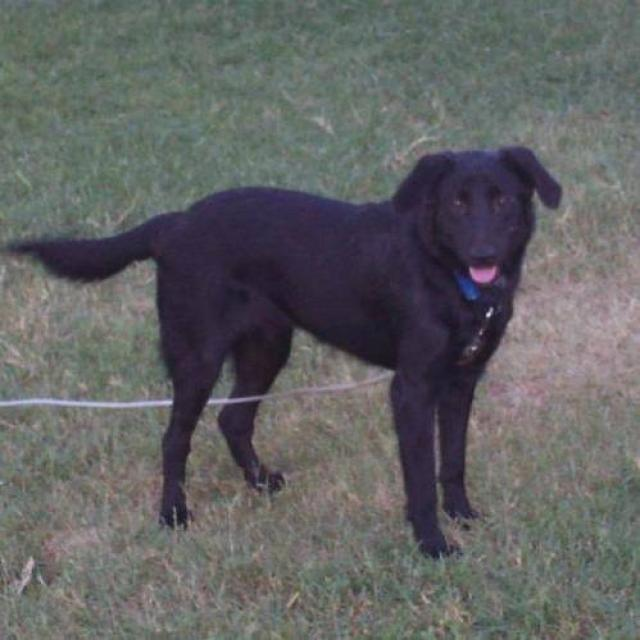dog: (0, 142, 562, 559)
